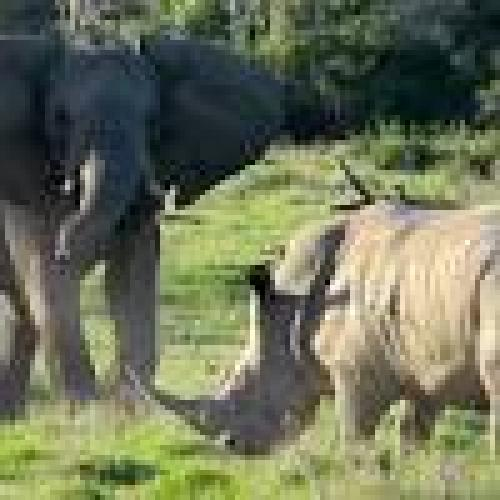african_elephant-endangered: (0, 27, 294, 415)
rhino-endangered: (124, 196, 500, 452)
